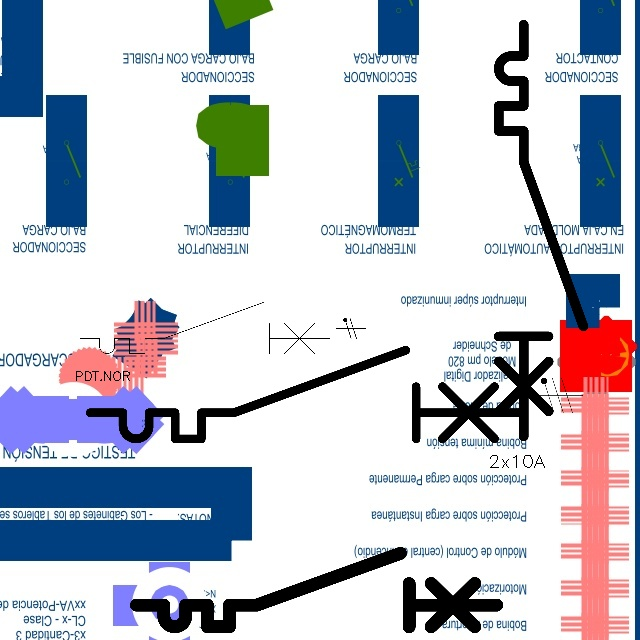interruptor_termomagnetico: (79, 339, 532, 450), (488, 14, 594, 447), (127, 544, 505, 636), (74, 296, 336, 360)
